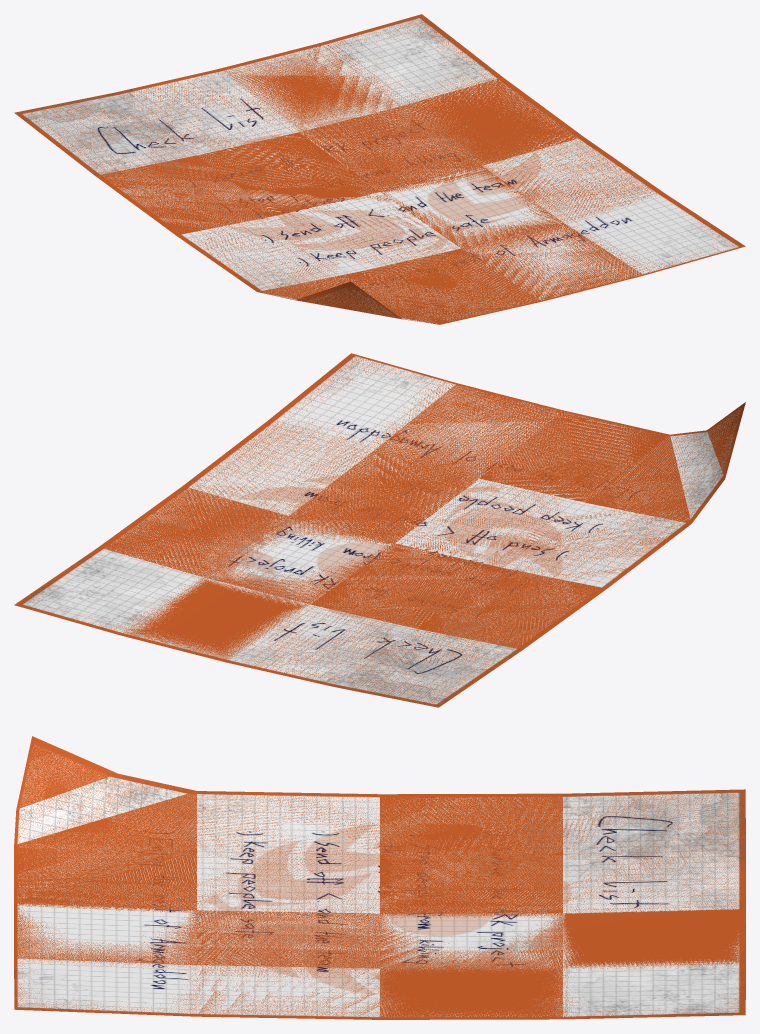
File: security_tasklist_01.dae
The picture shows the model from 3 angles, top to bottom: view 1: azimuth 30°, elevation 25°; view 2: azimuth 150°, elevation 25°; view 3: azimuth 270°, elevation 25°; orthographic projection. The views are drawn at different scales.
Visible parts, largest first — view 1: 01; view 2: 01; view 3: 01.
Boxes of the visible parts, bbox=[...] form: 01: bbox=[14, 14, 745, 324]; 01: bbox=[14, 353, 745, 707]; 01: bbox=[14, 736, 745, 1019].
Size of the model in its own units: 0.2536 by 0.0404 by 0.3491.
